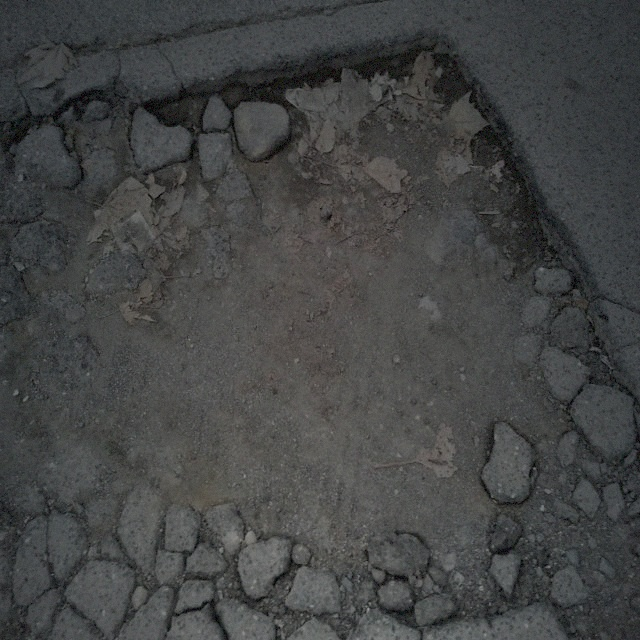pothole: (16, 15, 616, 539)
